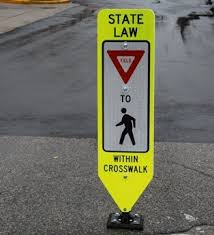yield_sign: (96, 7, 155, 213)
